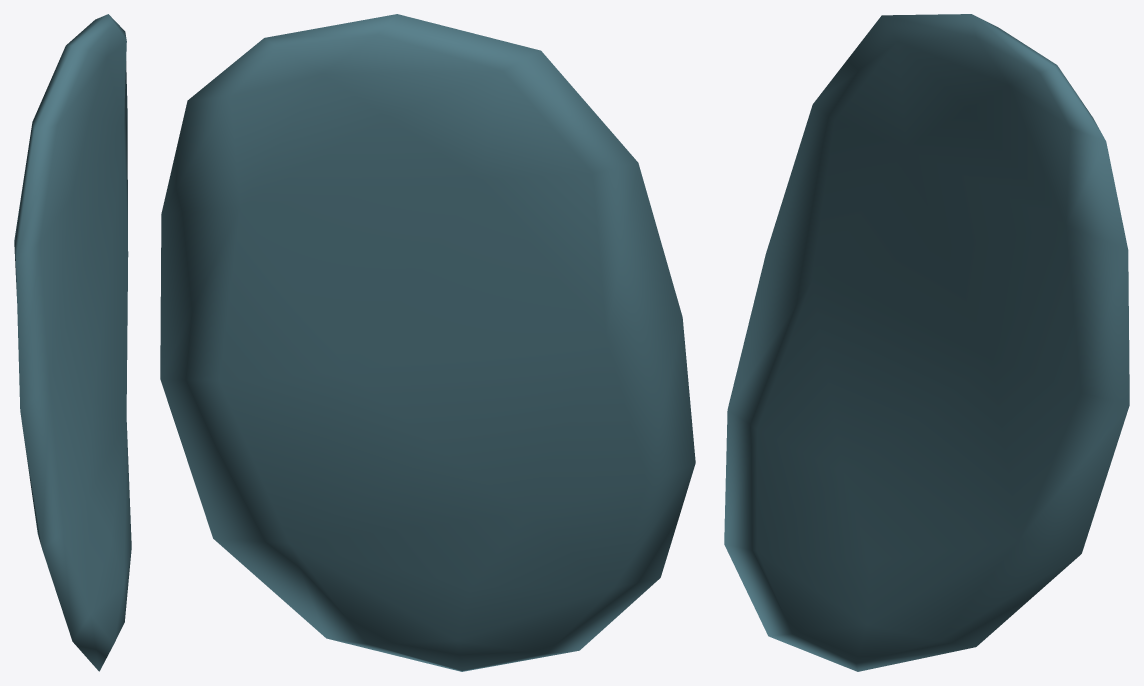
Rendered from Humeral_head_extensor_carpi_ulnaris_insertion_left.glb.
The picture shows the model from 3 angles, left to right: view 1: azimuth 30°, elevation 25°; view 2: azimuth 150°, elevation 25°; view 3: azimuth 270°, elevation 25°; orthographic projection. The views are drawn at different scales.
Visible parts, largest first — view 1: Humeral_head_of_extensor_carpi_ulnaris-Insertion.l_Generated; view 2: Humeral_head_of_extensor_carpi_ulnaris-Insertion.l_Generated; view 3: Humeral_head_of_extensor_carpi_ulnaris-Insertion.l_Generated.
Part boxes in pixels (x1,y1,x2,y2): Humeral_head_of_extensor_carpi_ulnaris-Insertion.l_Generated: [14, 14, 131, 671]; Humeral_head_of_extensor_carpi_ulnaris-Insertion.l_Generated: [160, 14, 695, 671]; Humeral_head_of_extensor_carpi_ulnaris-Insertion.l_Generated: [724, 14, 1129, 671].
Size of the model in its own units: 0.00377 by 0.00767 by 0.00428.
